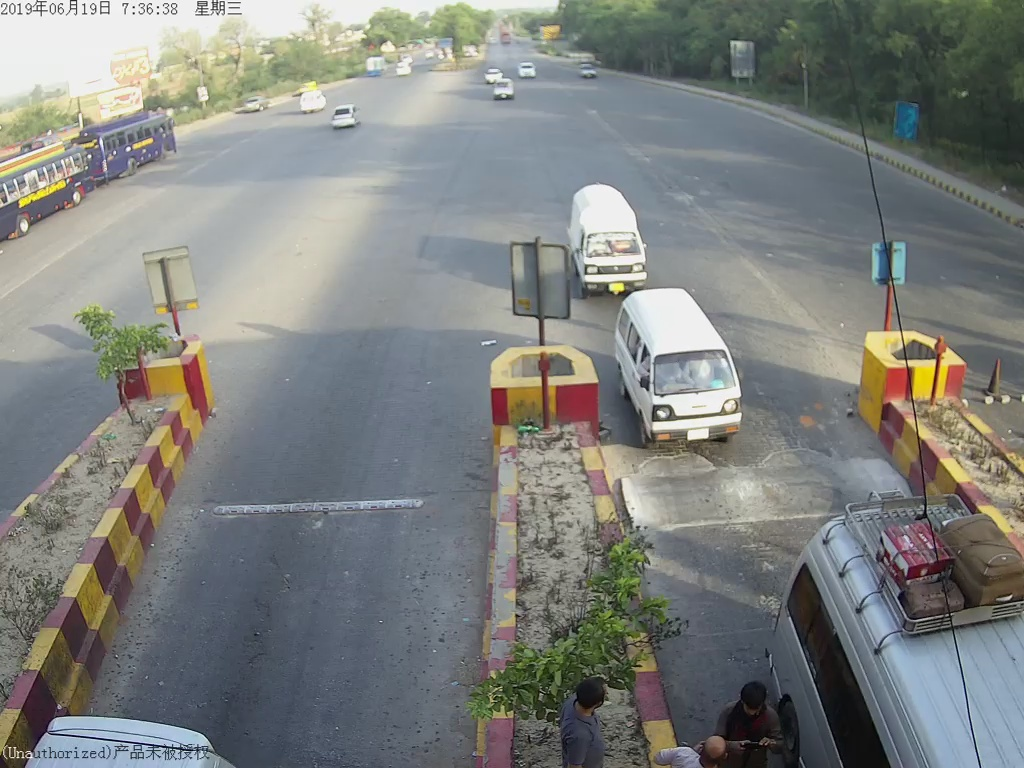Cat-1: (612, 283, 744, 444), (562, 182, 653, 296), (491, 74, 516, 106)
